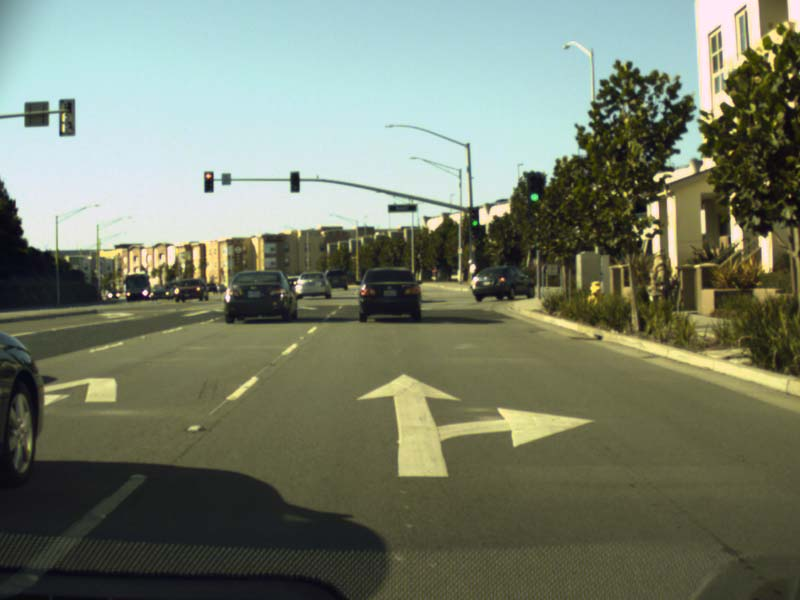Green: (529, 173, 542, 202), (469, 210, 478, 238)
Red: (204, 171, 213, 191)
